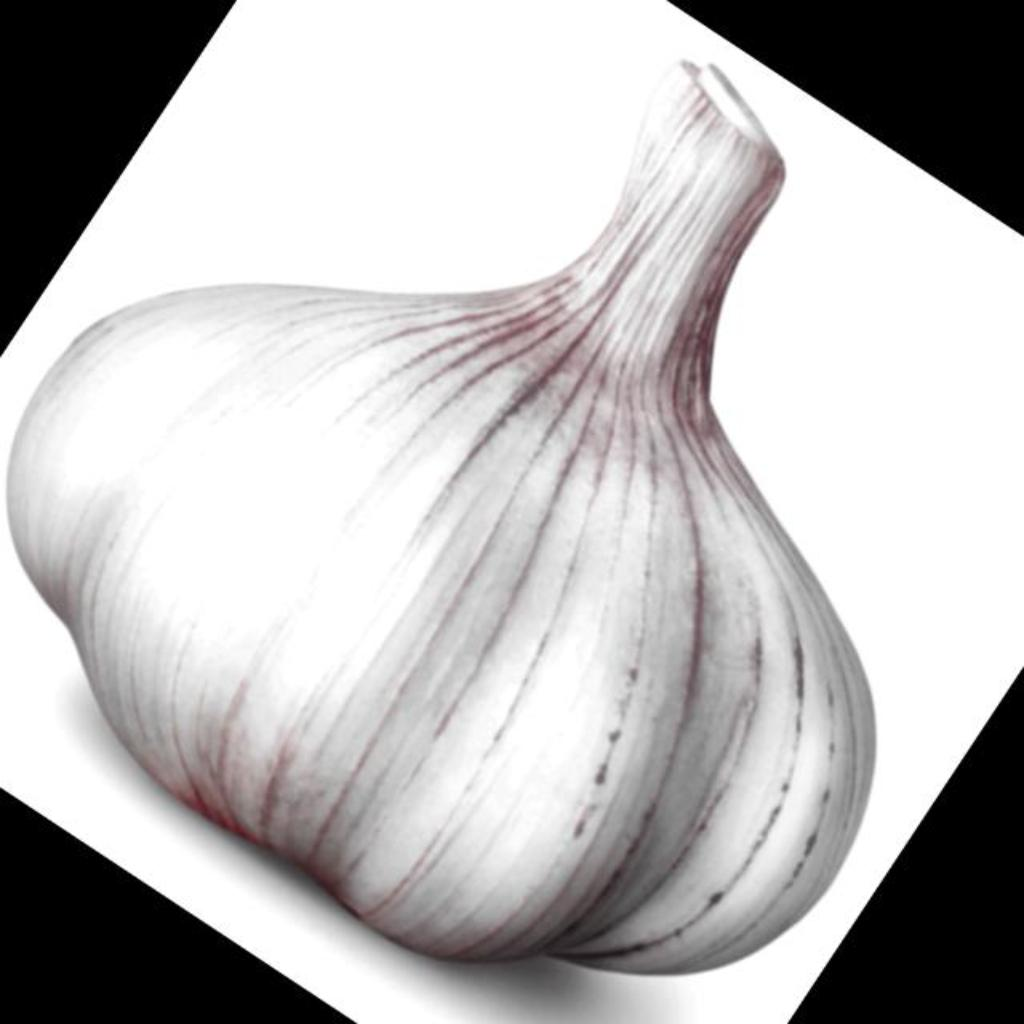garlic: (8, 64, 874, 972)
